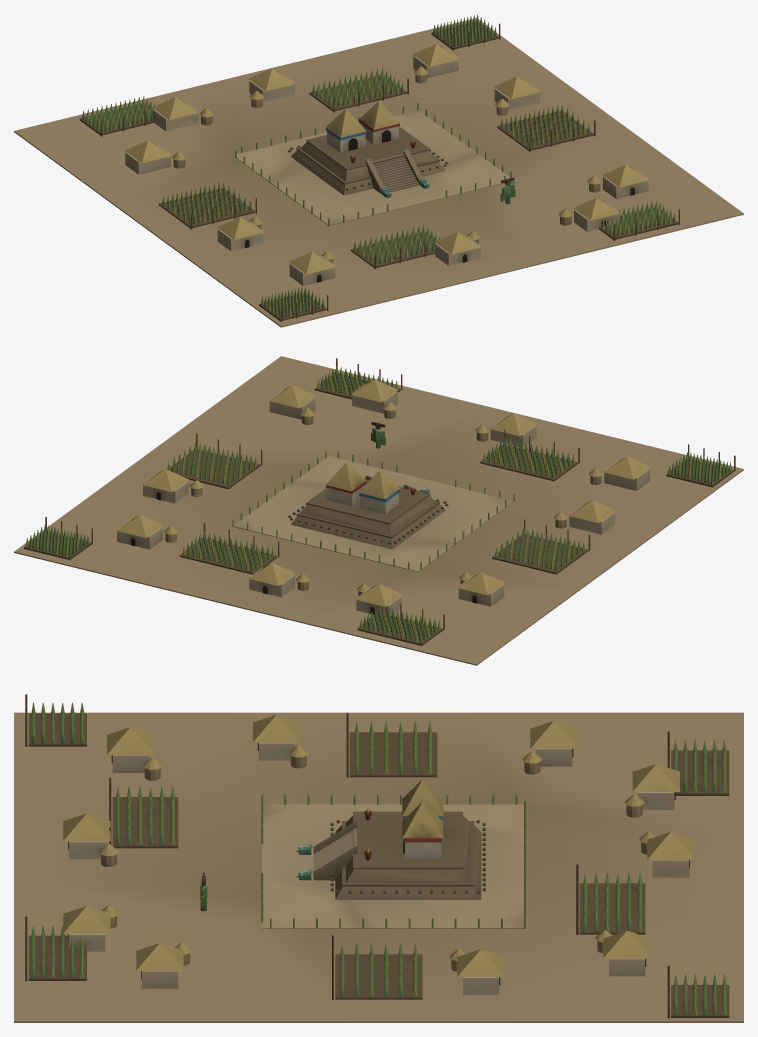
File: templo-mayor-1350.glb
The picture shows the model from 3 angles, top to bottom: view 1: azimuth 30°, elevation 25°; view 2: azimuth 150°, elevation 25°; view 3: azimuth 270°, elevation 25°; orthographic projection. The views are drawn at different scales.
Visible parts, largest first — view 1: p0_ground, p2_shrines, p1_stair; view 2: p0_ground, p2_shrines, p1_stair; view 3: p0_ground, p2_shrines, p1_stair.
Boxes of the visible parts, box(x1,y1,x2,y2) form: p0_ground: box(14, 18, 743, 327); p2_shrines: box(79, 14, 679, 322); p1_stair: box(125, 48, 648, 285); p0_ground: box(14, 356, 743, 665); p2_shrines: box(24, 358, 735, 645); p1_stair: box(117, 384, 649, 615); p0_ground: box(14, 712, 743, 1022); p2_shrines: box(25, 694, 729, 1018); p1_stair: box(68, 742, 689, 994).
Size of the model in its own units: 100 by 11.57 by 100.
